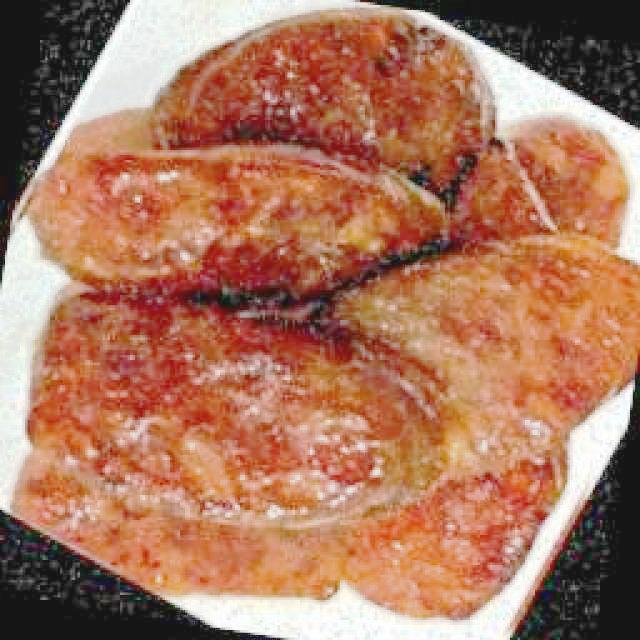chinese_sausage: (15, 10, 635, 614)
